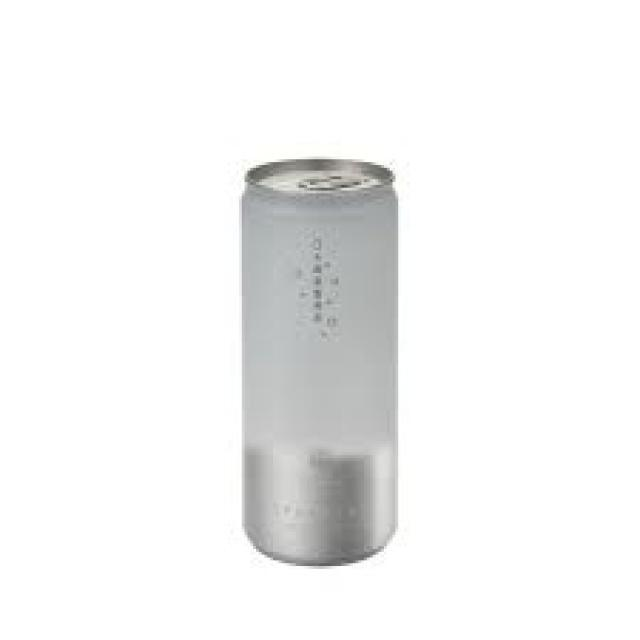recyclable: (240, 158, 400, 568)
